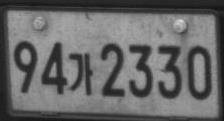0: (186, 45, 213, 100)
2: (100, 42, 125, 97)
3: (128, 43, 153, 98), (157, 45, 182, 99)
4: (40, 41, 67, 95)
9: (13, 39, 38, 94)
가: (68, 52, 94, 95)
